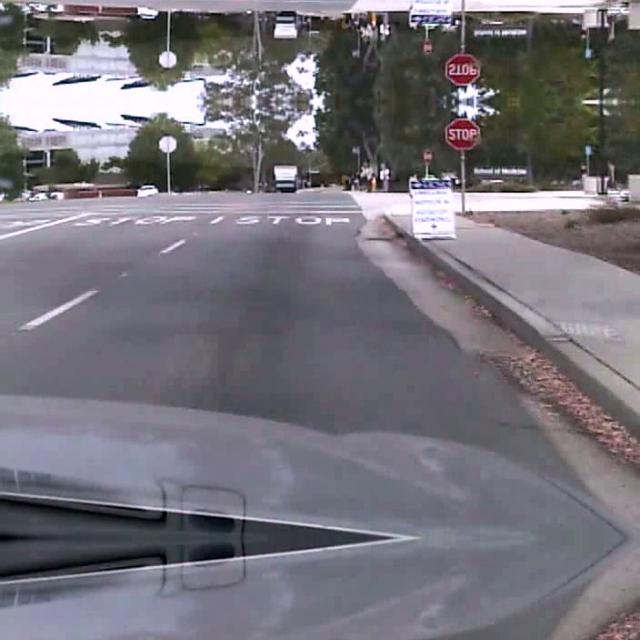stop: (444, 116, 480, 148), (444, 54, 480, 86)
